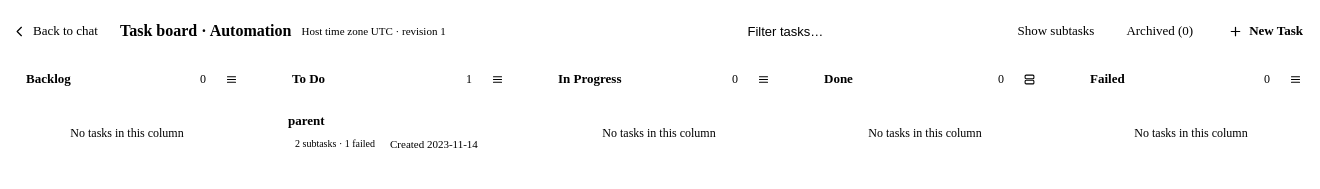
Test case: board subtask filter › user opening a crowded board sees parent cards with a rolled-up child state
Expected: the text "child-done" is not shown
Expected: the text "child-failed" is not shown
Click the button "Show subtasks": point(1056, 31) [1006, 16, 1106, 46]
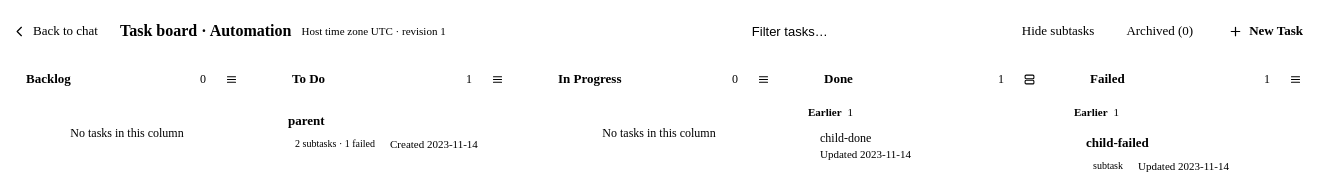
Now the text "child-done" is shown, box [820, 130, 871, 146]
Now the text "child-failed" is shown, box [1086, 134, 1149, 152]
